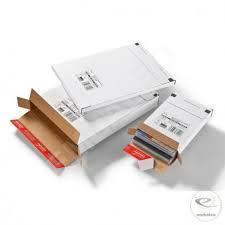Cardboard: (14, 37, 225, 199)
